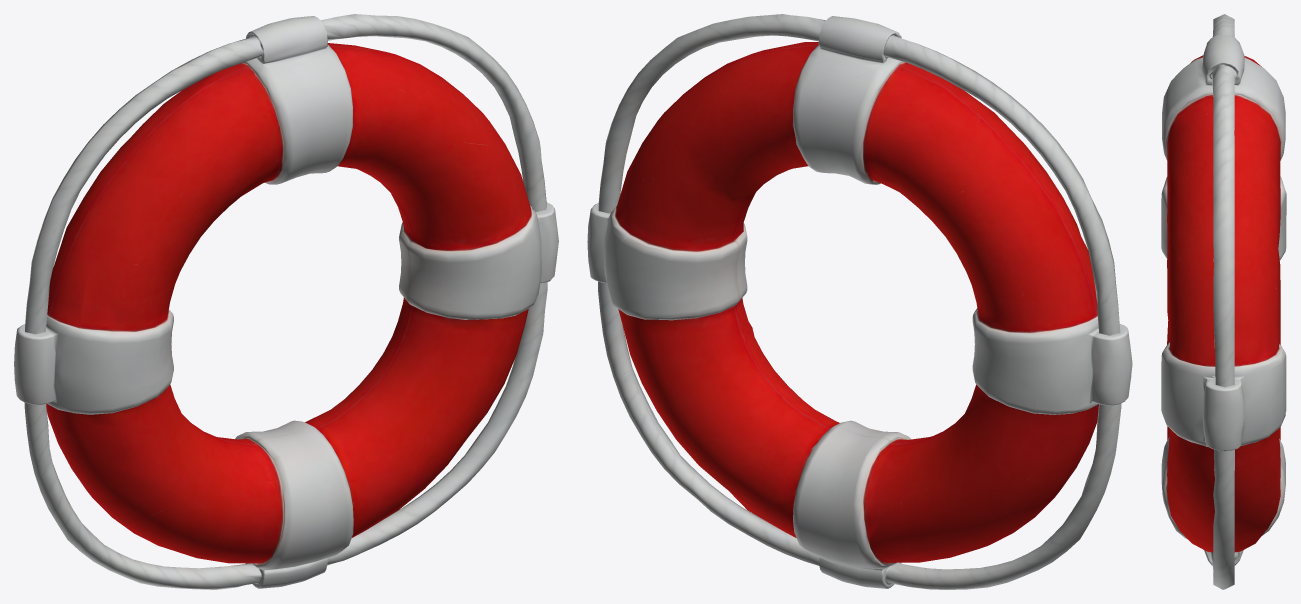
File: pool_ring.glb
The picture shows the model from 3 angles, left to right: view 1: azimuth 30°, elevation 25°; view 2: azimuth 150°, elevation 25°; view 3: azimuth 270°, elevation 25°; orthographic projection. The views are drawn at different scales.
Visible parts, largest first — view 1: geometry_0; view 2: geometry_0; view 3: geometry_0.
Boxes of the visible parts, x1,y1,x2,y2 form: geometry_0: (14,14,558,589); geometry_0: (587,14,1132,589); geometry_0: (1161,14,1286,589).
Bounding box in the file's own units: 0.9556 × 0.9507 × 0.2109.
1 material, 1 textured.
